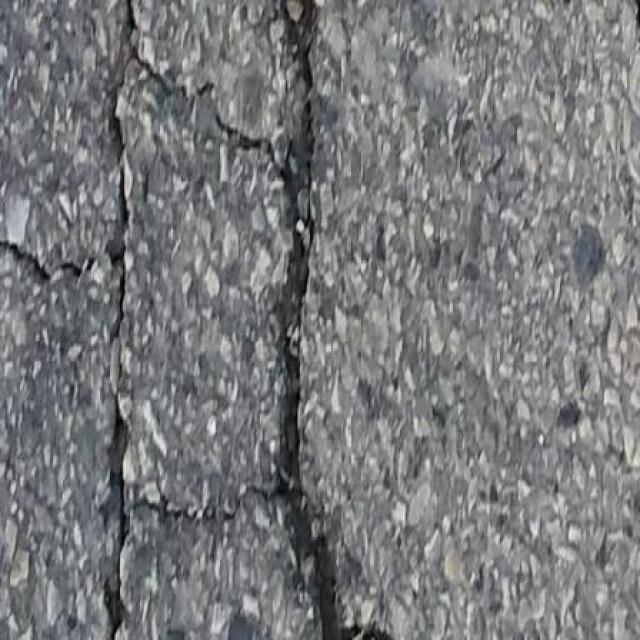Crack: (286, 0, 381, 639), (0, 151, 135, 367), (100, 400, 161, 640), (194, 82, 295, 157), (114, 0, 142, 136), (188, 499, 274, 528), (144, 79, 174, 116)
